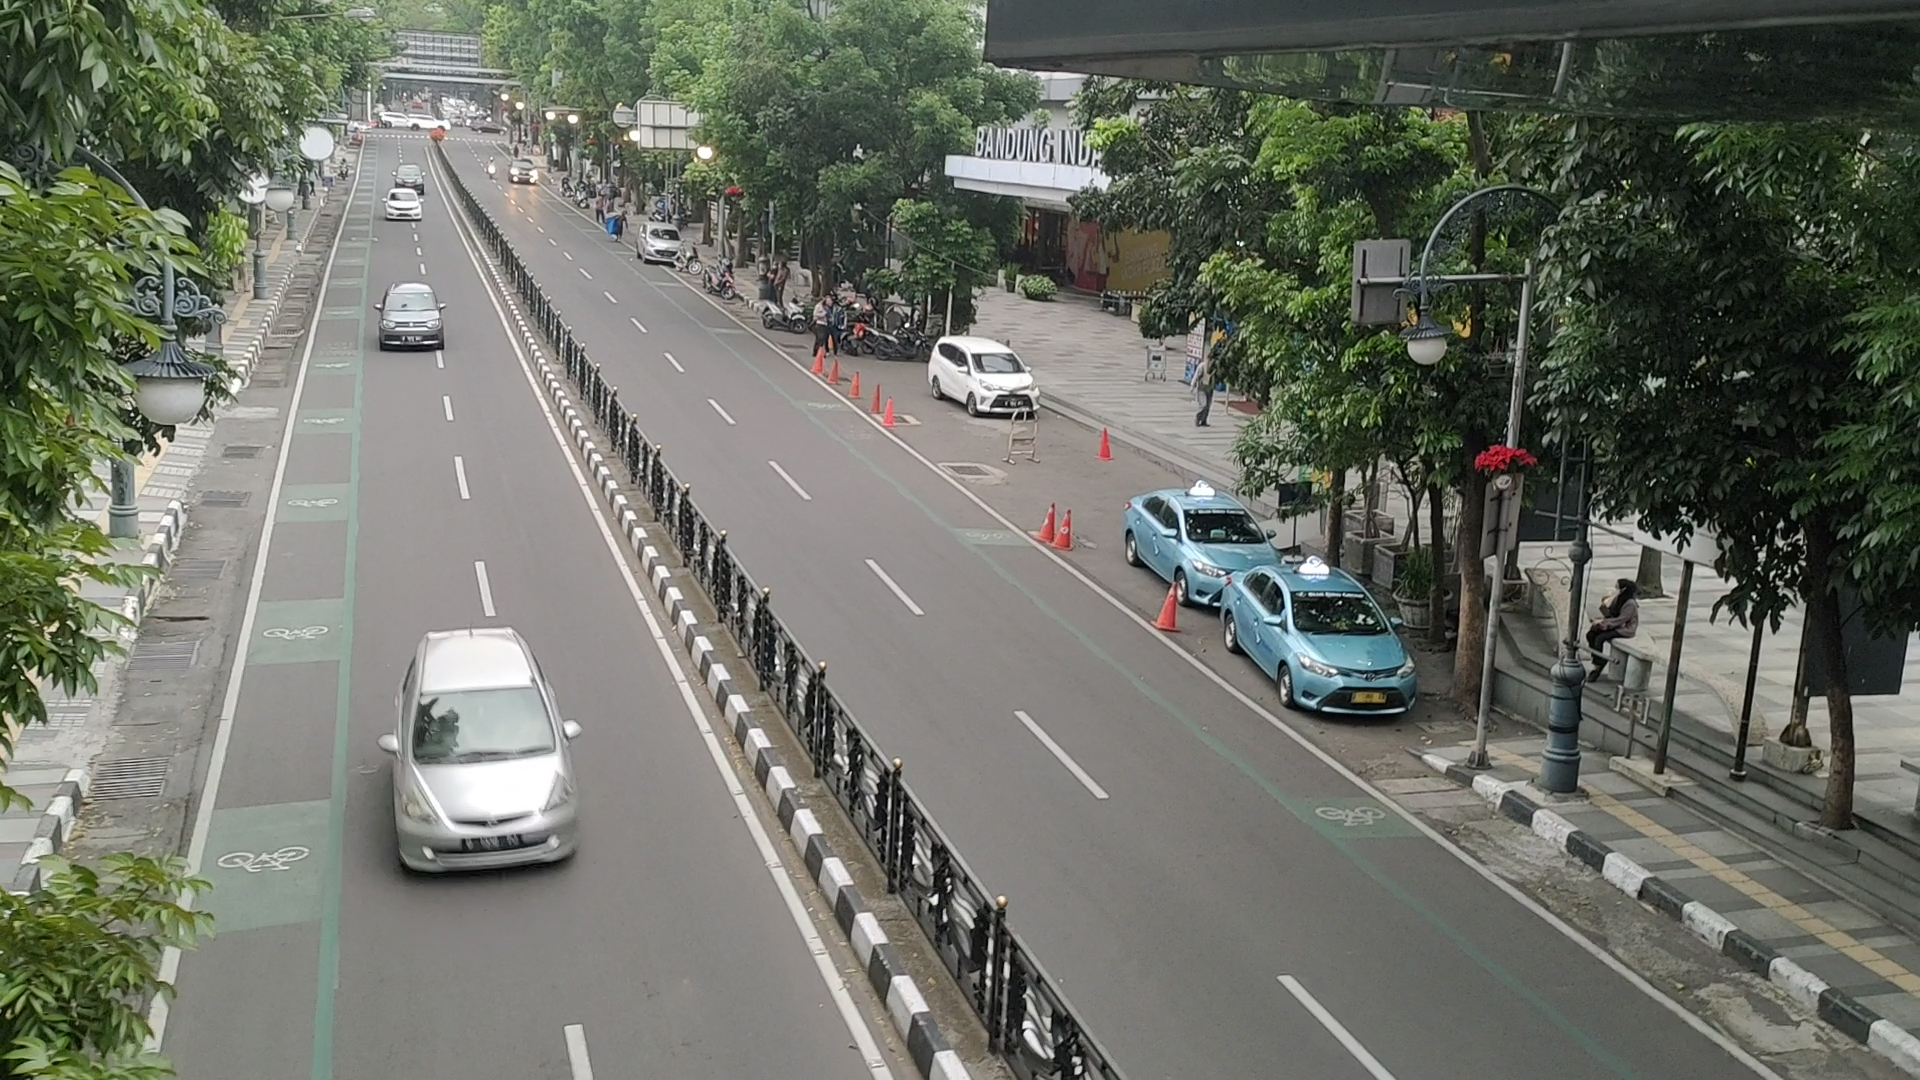mobil: (386, 682, 583, 872), (1270, 589, 1422, 723), (968, 345, 1042, 415), (375, 290, 443, 351)
